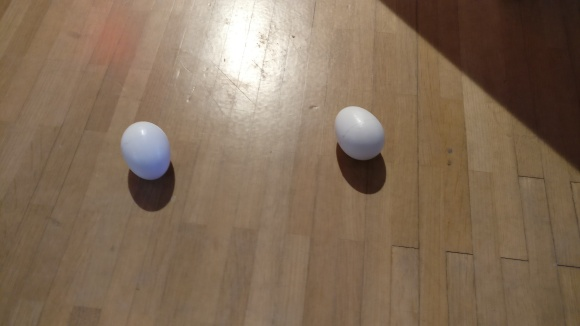egg: (120, 120, 174, 184), (335, 103, 385, 166)
